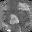people: (9, 14, 20, 25)
